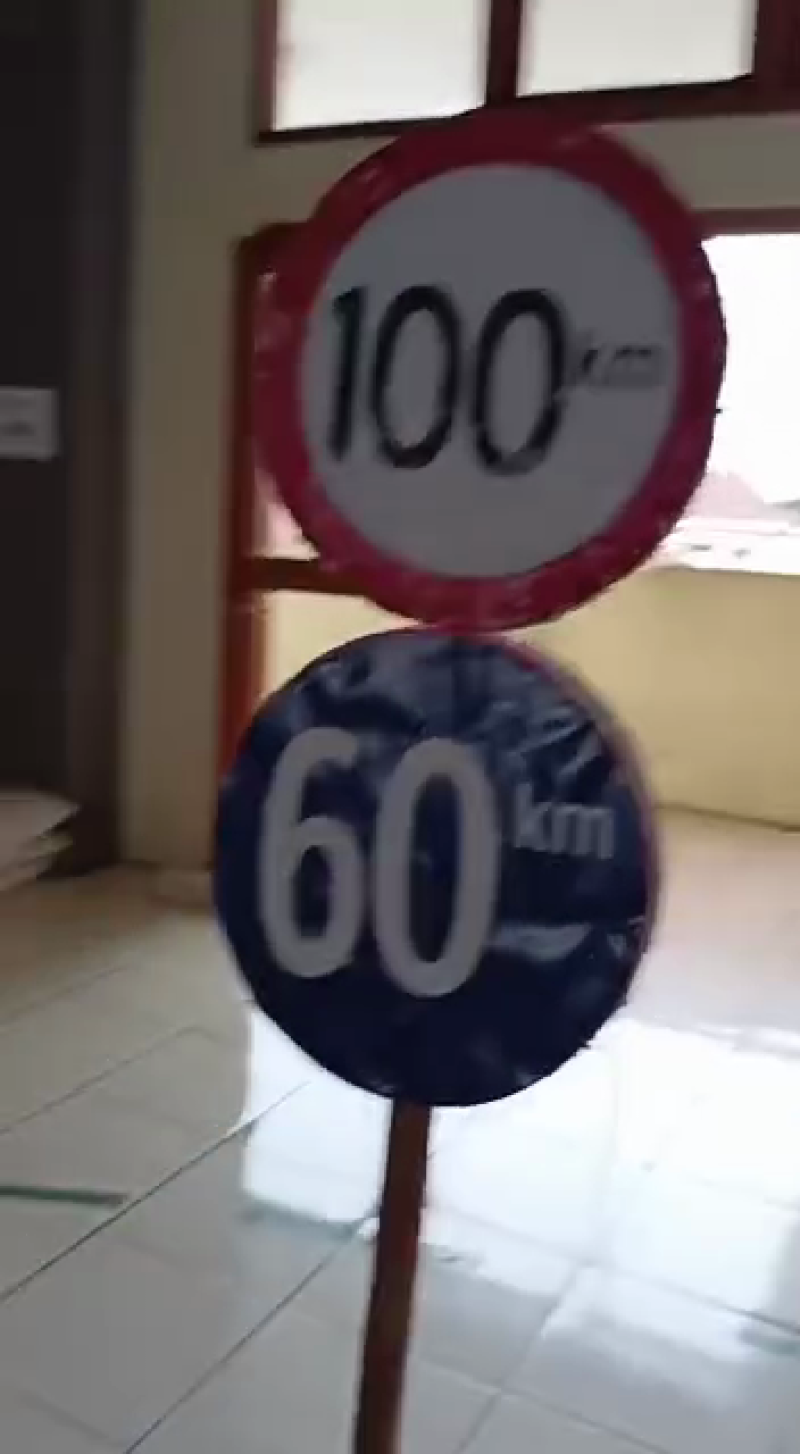batas maksimal 100kmperjam minimal 60kmperjam: (198, 93, 727, 1119)
